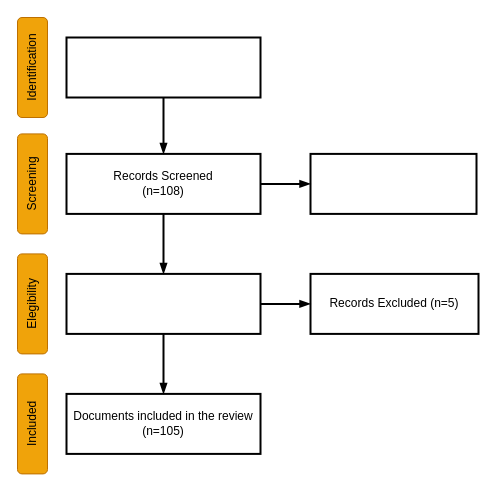
The diagram is 497 pixels wide and 492 high, and some of its shapes have lost their labels. Here are the shapes that lost their labels. From the top down, the centre of each, then its label:
At point 163,67: "Records Identified through database searching (n=108)".
At point 393,183: "Records Excluded (n=0)".
At point 163,303: "Documents assessed for eligibility (n=108)".
